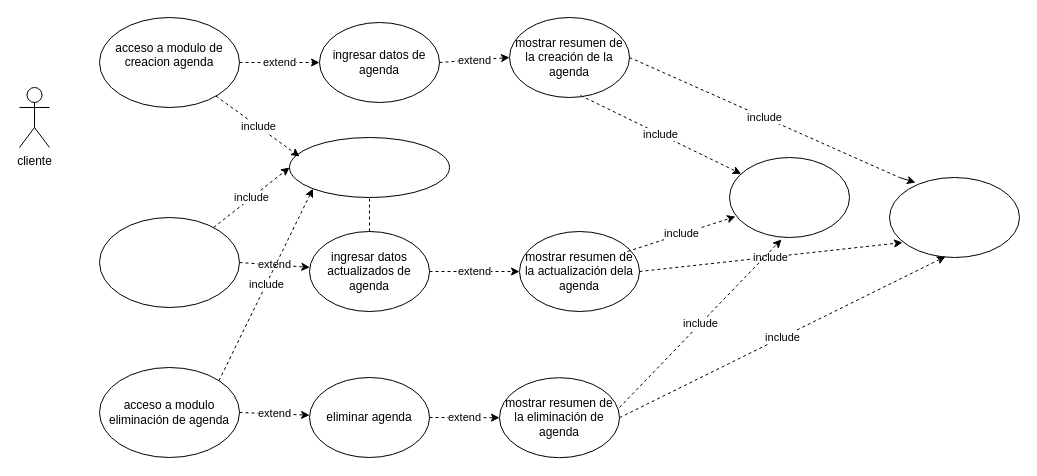
The diagram is 1037 pixels wide and 476 high, and some of its shapes have lost their labels. Here are the shapes that lost their labels. From the top down, the centre of each, then its label:
At point (369, 167): "validar agenda creada".
At point (789, 197): "enviar notificación al email".
At point (954, 217): "guardar reserva en el sistema".
At point (169, 262): "acceso a modulo de actualización de agenda".
